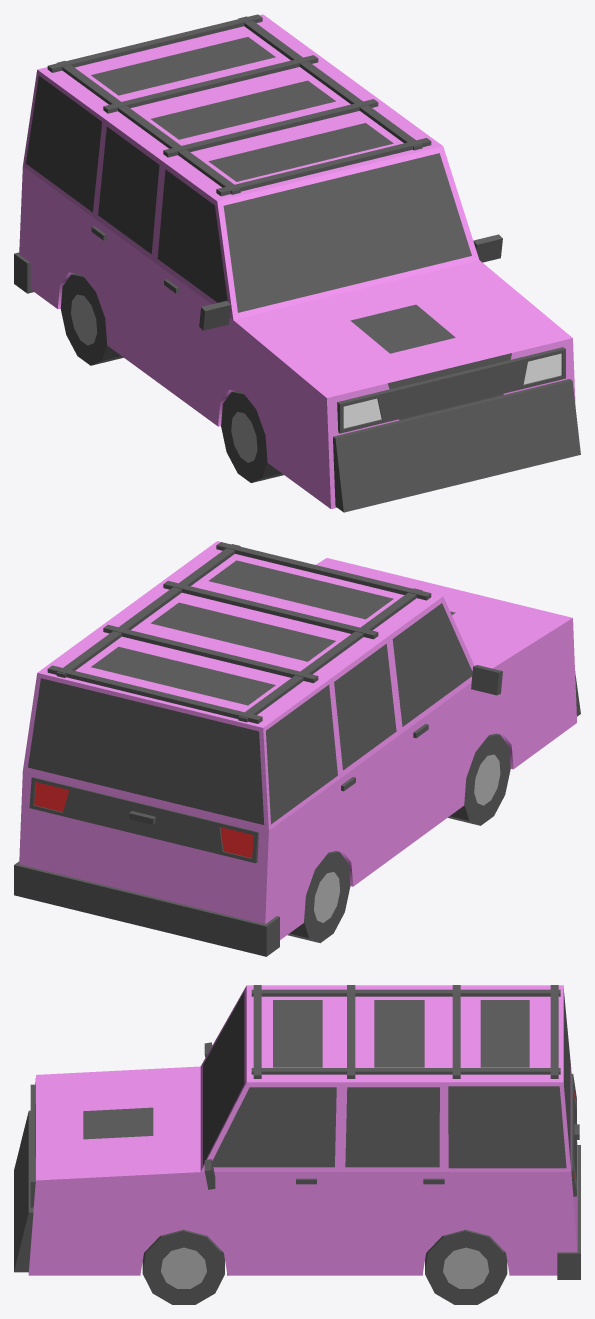
File: SM_Car_02_03.FBX
The picture shows the model from 3 angles, top to bottom: view 1: azimuth 30°, elevation 25°; view 2: azimuth 150°, elevation 25°; view 3: azimuth 270°, elevation 25°; orthographic projection. The views are drawn at different scales.
Parts seen in each view (by area): view 1: SM_Car_02_03, SM_Wheel_LFront002, SM_Wheel_RBack001; view 2: SM_Car_02_03, SM_Wheel_LFront002, SM_Wheel_RBack001; view 3: SM_Car_02_03, SM_Wheel_LBack001, SM_Wheel_LFront001.
Part boxes in pixels (x1,y1,x2,y2): SM_Car_02_03: [14, 14, 580, 512]; SM_Wheel_LFront002: [221, 391, 283, 482]; SM_Wheel_RBack001: [60, 273, 123, 365]; SM_Car_02_03: [14, 541, 580, 956]; SM_Wheel_LFront002: [448, 733, 510, 825]; SM_Wheel_RBack001: [287, 851, 350, 943]; SM_Car_02_03: [14, 985, 580, 1279]; SM_Wheel_LBack001: [425, 1229, 507, 1304]; SM_Wheel_LFront001: [142, 1229, 224, 1304].
Bounding box in the file's own units: 1.82 × 1.48 × 3.41.
1 material, 1 textured.
